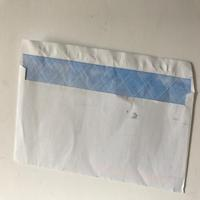paper: (15, 38, 200, 195)
